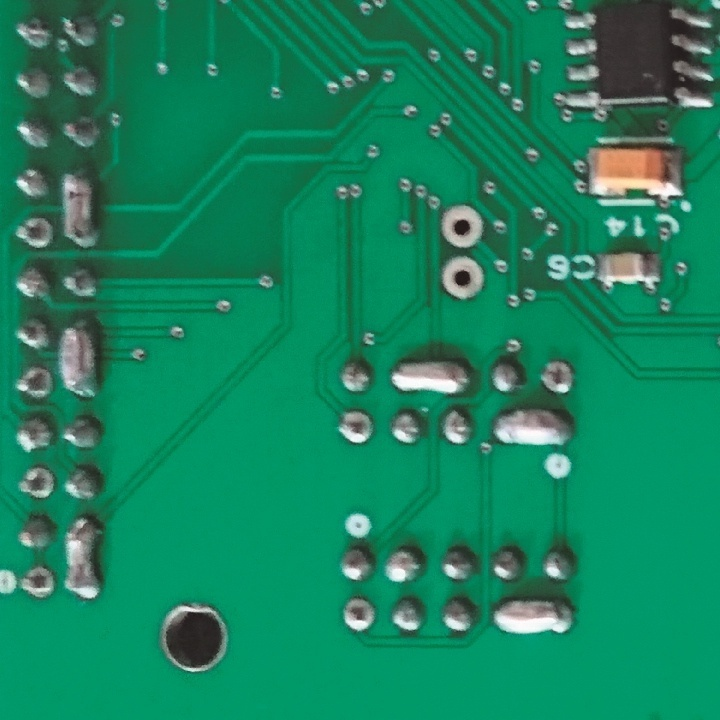F: (439, 253, 483, 300), (441, 202, 484, 250), (13, 462, 56, 503), (15, 564, 56, 603), (13, 214, 56, 251), (540, 357, 578, 396), (341, 595, 377, 636), (14, 366, 56, 400), (336, 408, 373, 445)
P: (59, 316, 103, 402), (64, 515, 104, 606), (492, 407, 572, 452), (492, 595, 573, 639), (61, 163, 101, 250), (387, 360, 470, 399)
